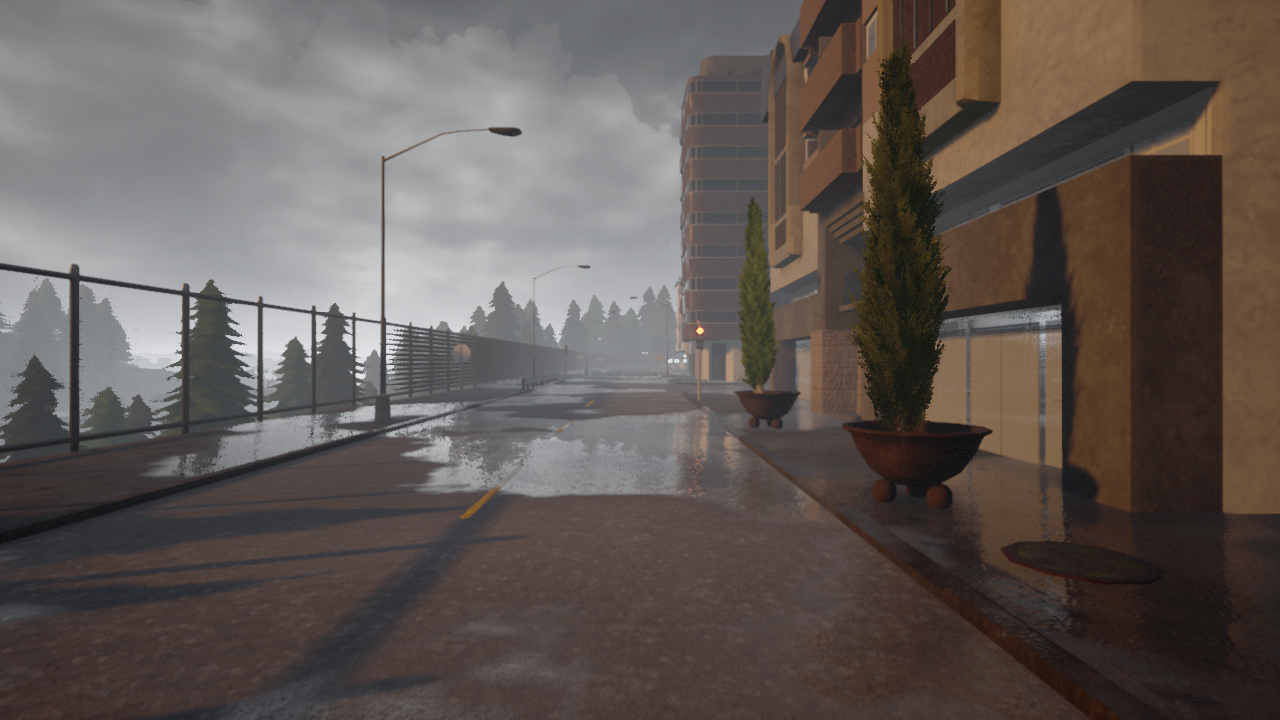red: (695, 325, 705, 350)
